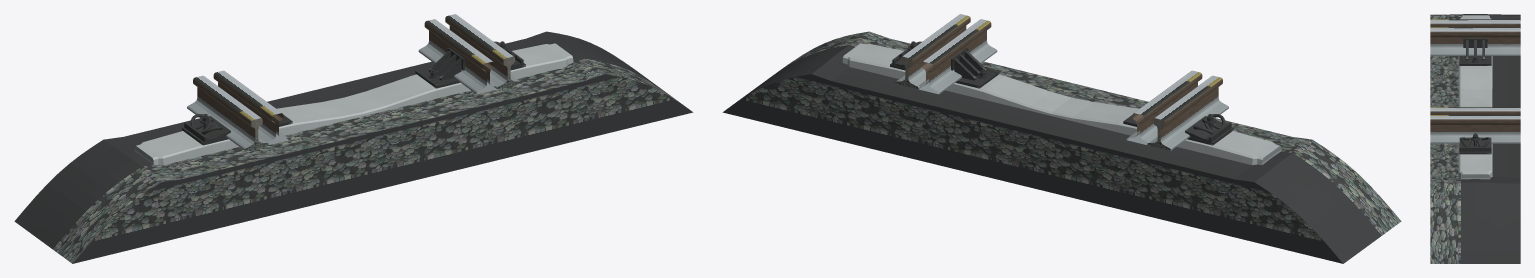
File: outer_guard_high.obj
3 renders of one model, left to right at view 1: azimuth 30°, elevation 25°; view 2: azimuth 150°, elevation 25°; view 3: azimuth 270°, elevation 25°, orthographic. The views are drawn at different scales.
Visible parts, largest first — view 1: ballast, sleeper, rail_left, outer_guard_right, outer_guard_left, rail_right, outer_fastener_right, fastener_left; view 2: ballast, sleeper, rail_left, outer_guard_right, outer_guard_left, rail_right, outer_fastener_right, fastener_left; view 3: ballast, sleeper, rail_right, outer_guard_left, rail_left, outer_guard_right, outer_fastener_left, fastener_right, outer_fastener_right.
Boxes of the visible parts, x1,y1,x2,y2 form: ballast: (14, 31, 693, 263); sleeper: (134, 43, 573, 165); rail_left: (187, 75, 266, 150); outer_guard_right: (418, 19, 498, 94); outer_guard_left: (213, 70, 289, 144); rail_right: (445, 14, 519, 88); outer_fastener_right: (415, 47, 525, 88); fastener_left: (184, 114, 230, 142); ballast: (722, 31, 1401, 263); sleeper: (842, 43, 1281, 165); rail_left: (1149, 75, 1228, 150); outer_guard_right: (917, 19, 997, 94); outer_guard_left: (1126, 70, 1202, 144); rail_right: (896, 14, 970, 88); outer_fastener_right: (890, 47, 1000, 88); fastener_left: (1185, 114, 1231, 142); ballast: (1430, 14, 1520, 263); sleeper: (1458, 15, 1492, 179); rail_right: (1430, 115, 1520, 143); outer_guard_left: (1430, 27, 1520, 55); rail_left: (1430, 19, 1520, 27); outer_guard_right: (1430, 107, 1520, 114); outer_fastener_left: (1459, 38, 1491, 65); fastener_right: (1459, 133, 1491, 151); outer_fastener_right: (1459, 144, 1491, 154).
Size of the model in its own units: 3.7 by 0.5683 by 0.6.
